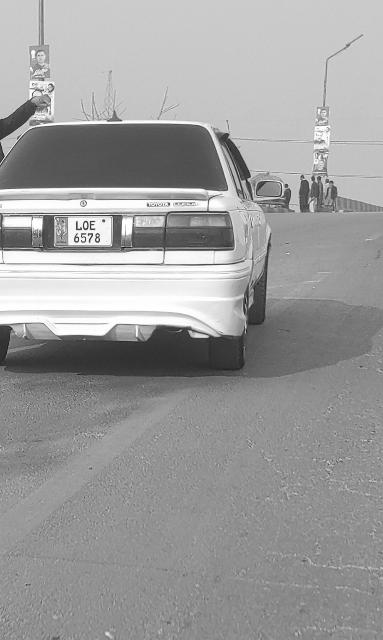Number: (72, 220, 102, 244)
